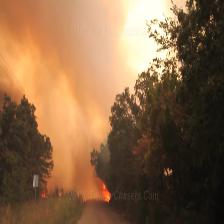fire: (85, 179, 124, 207)
smoke: (0, 3, 151, 163)
